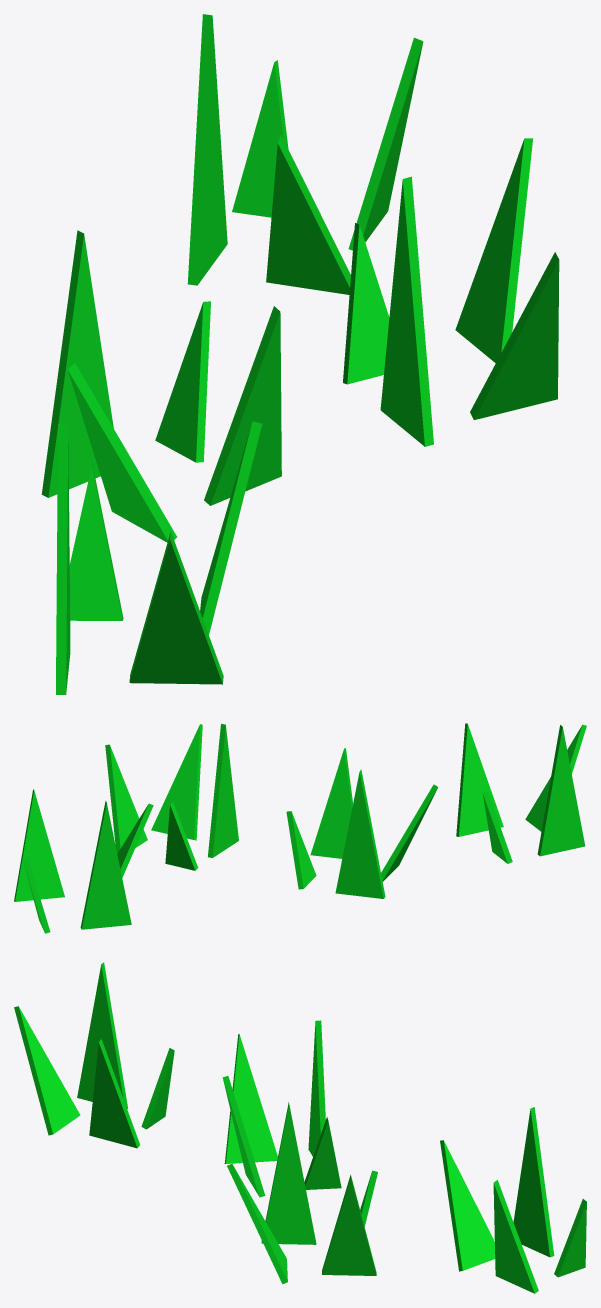
Rendered from grass.fbx.
The picture shows the model from 3 angles, top to bottom: view 1: azimuth 30°, elevation 25°; view 2: azimuth 150°, elevation 25°; view 3: azimuth 270°, elevation 25°; orthographic projection. The views are drawn at different scales.
Visible parts, largest first — view 1: Plane.005; view 2: Plane.005; view 3: Plane.005.
Boxes of the visible parts, x1,y1,x2,y2 form: Plane.005: (41, 14, 559, 694); Plane.005: (14, 723, 586, 933); Plane.005: (14, 962, 586, 1293).
Size of the model in its own units: 581 by 190 by 696.
